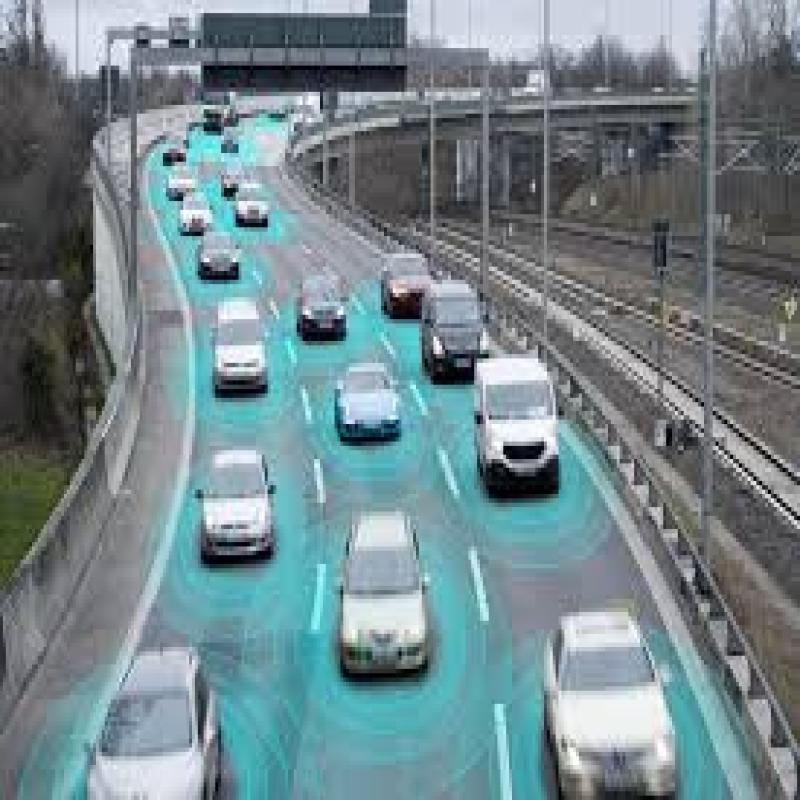car: (87, 642, 258, 800), (329, 492, 434, 688), (192, 436, 283, 578), (331, 356, 407, 462)
